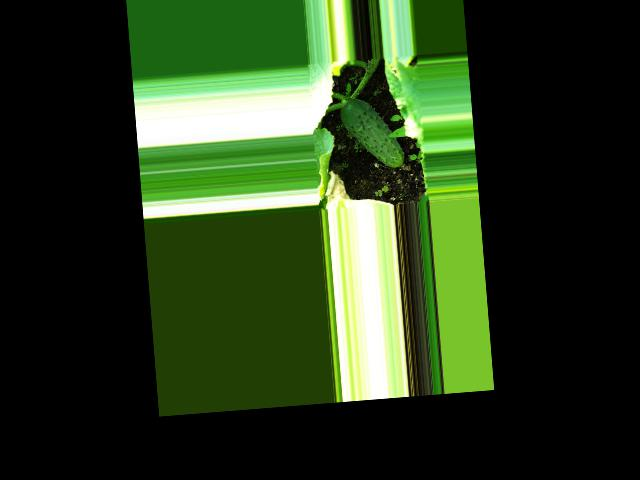cucumber: (339, 94, 405, 171)
